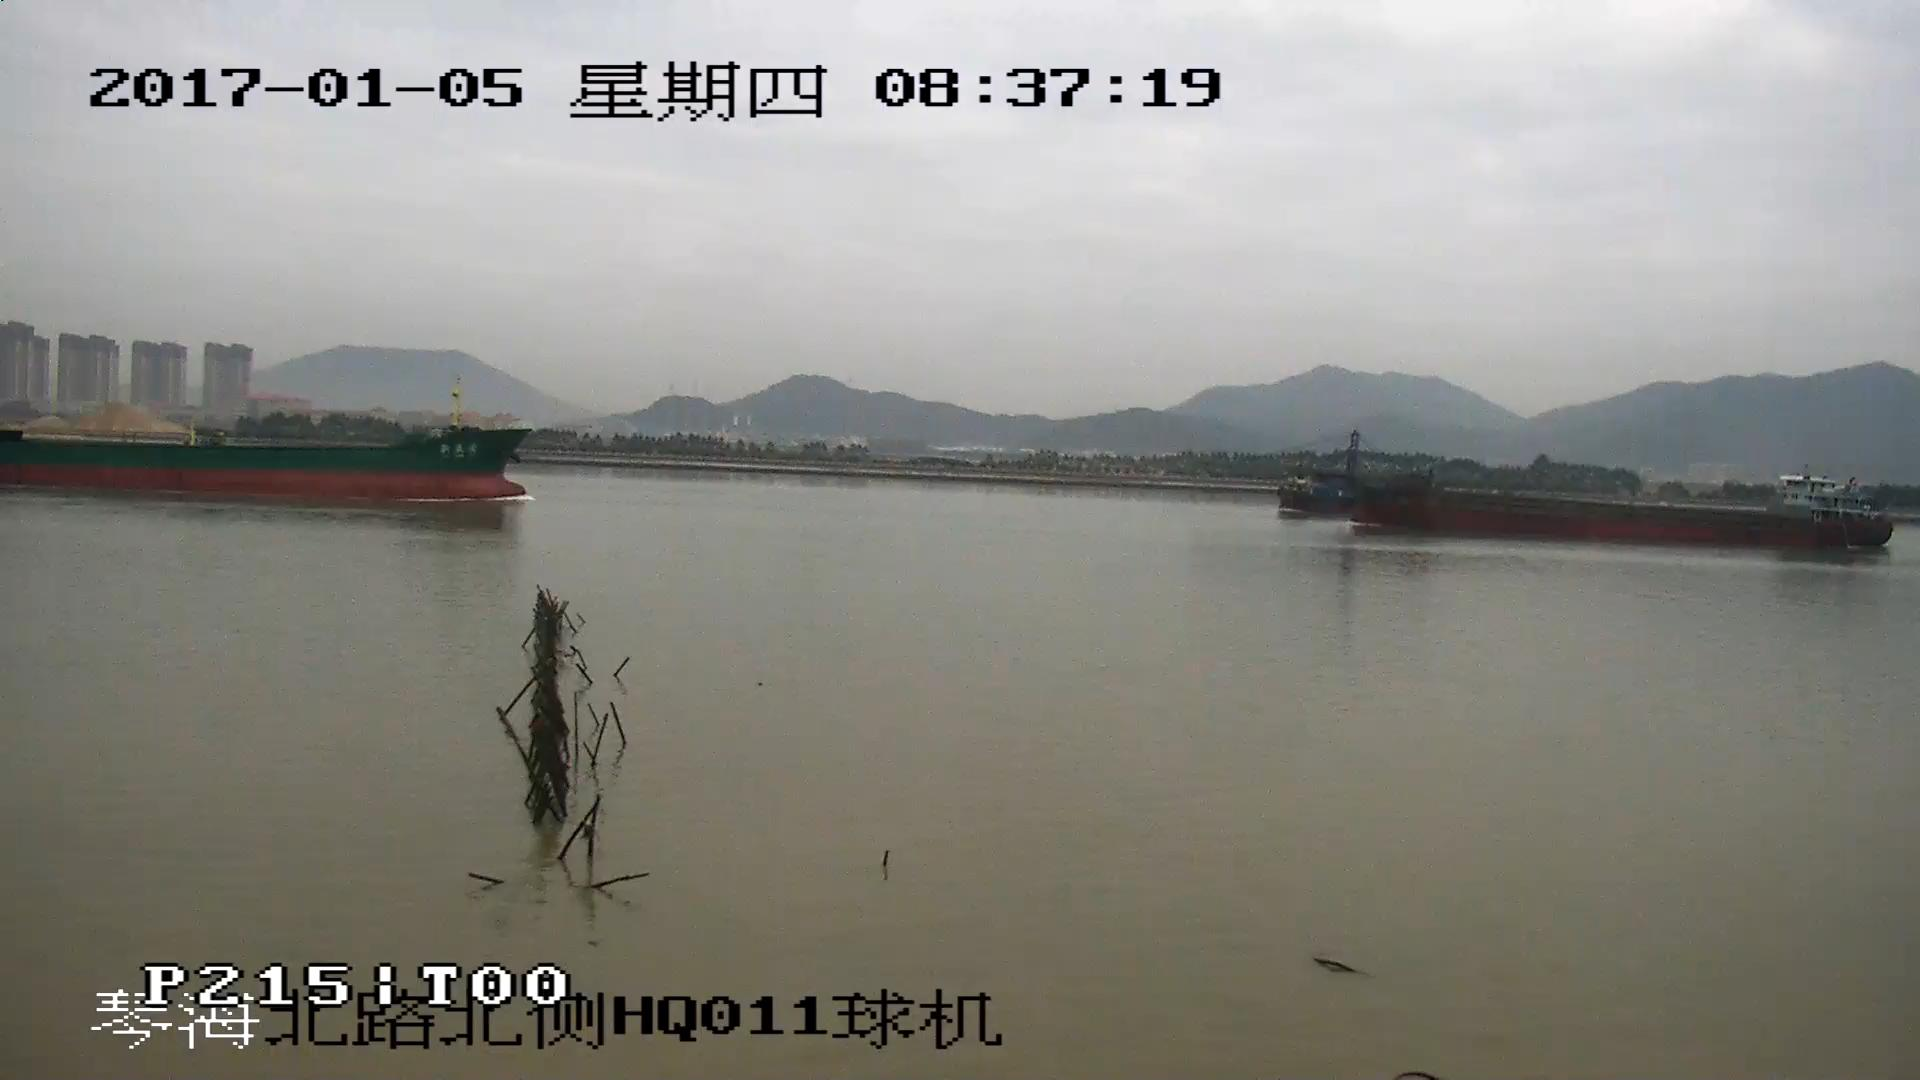bulk cargo carrier: (1284, 437, 1888, 549)
general cargo ship: (1, 380, 533, 502)
